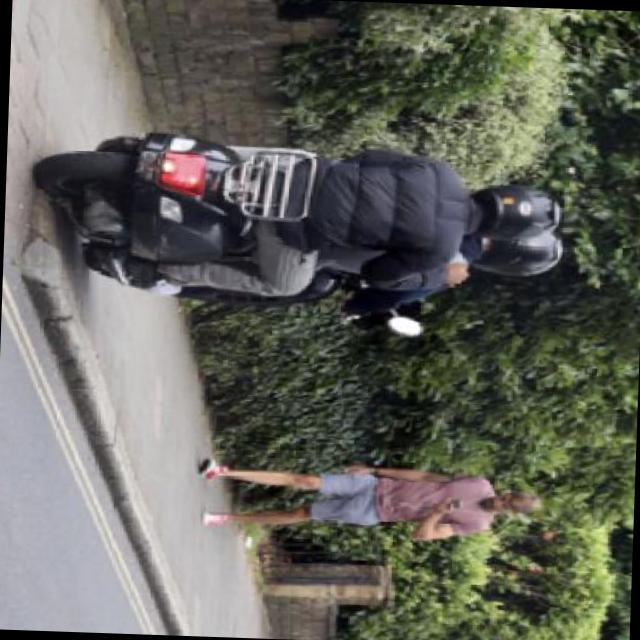With Helmet: (466, 224, 566, 281), (473, 184, 568, 240)
